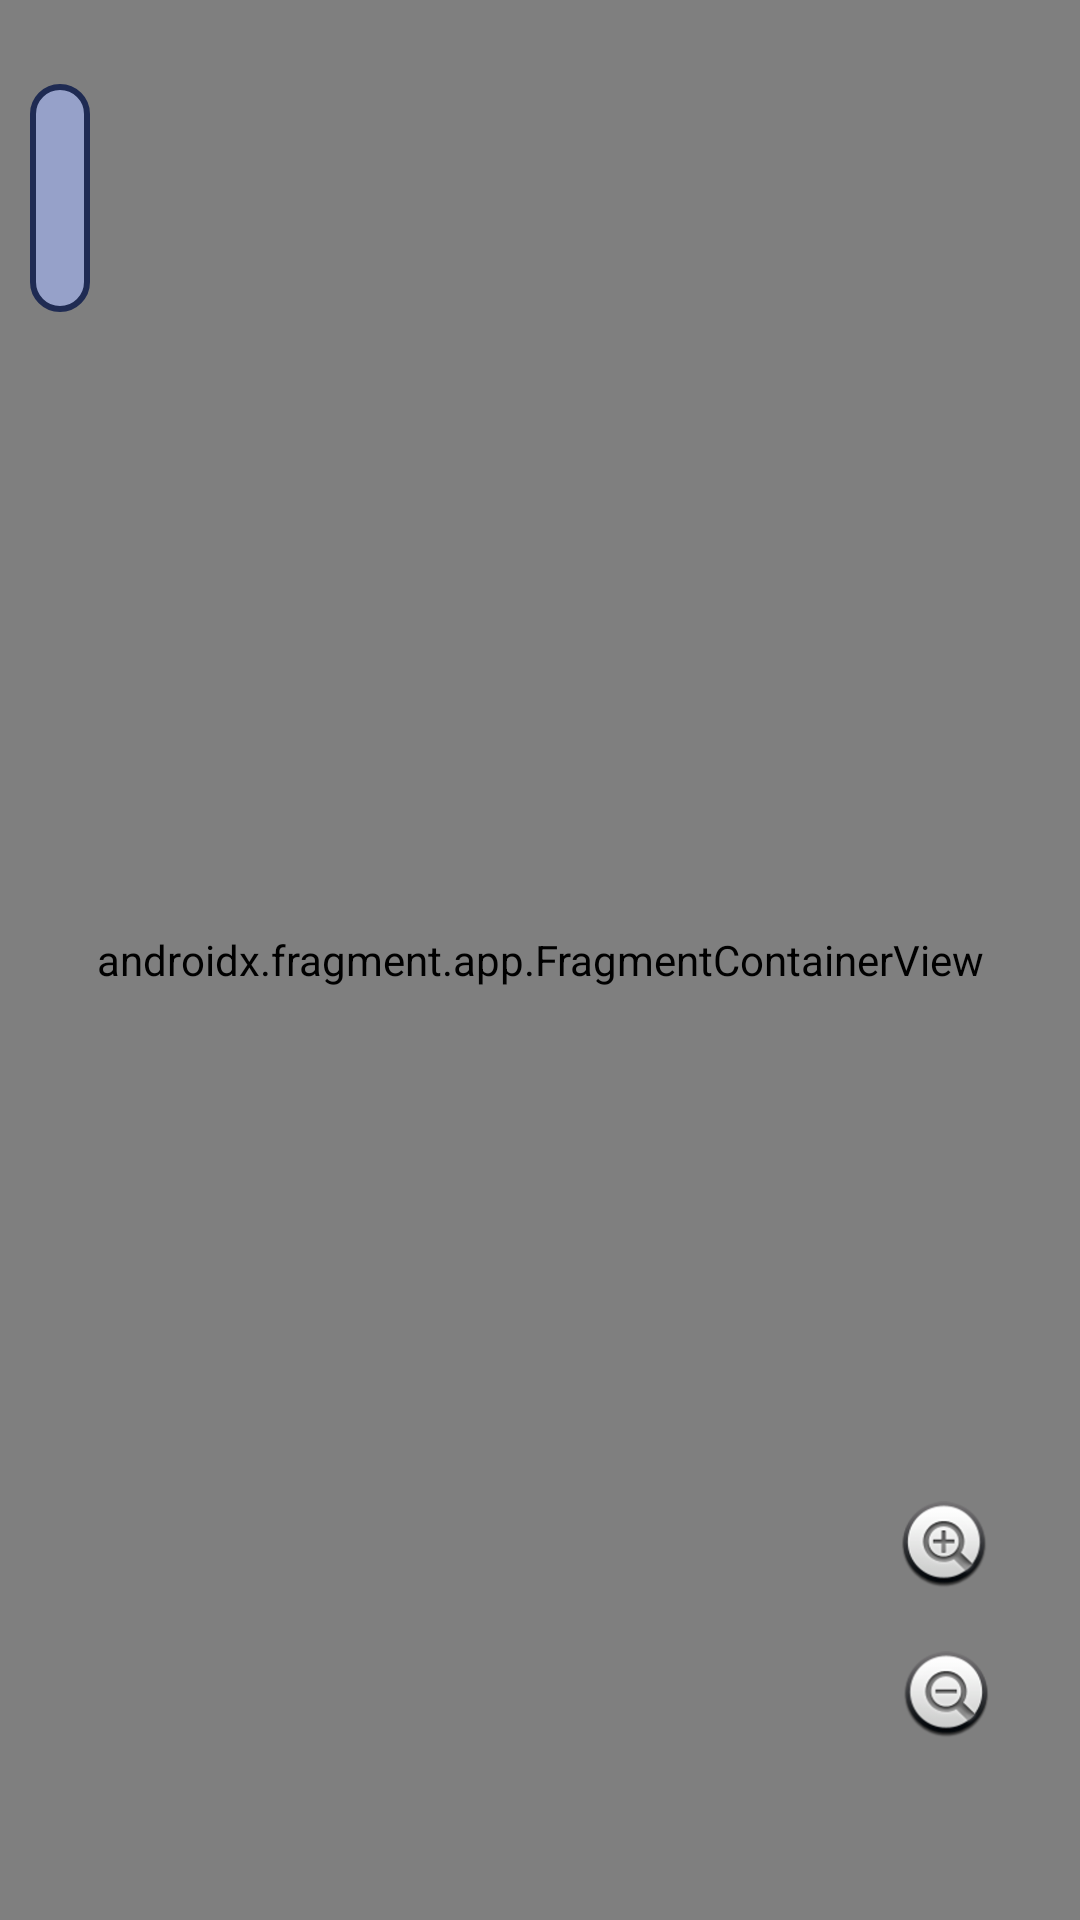

Named icons in this screenshot (1080*1920) and their bounding boxes, (x1, y1, x2, y2):
minus: (905, 1655, 988, 1736)
plus: (903, 1505, 985, 1586)
